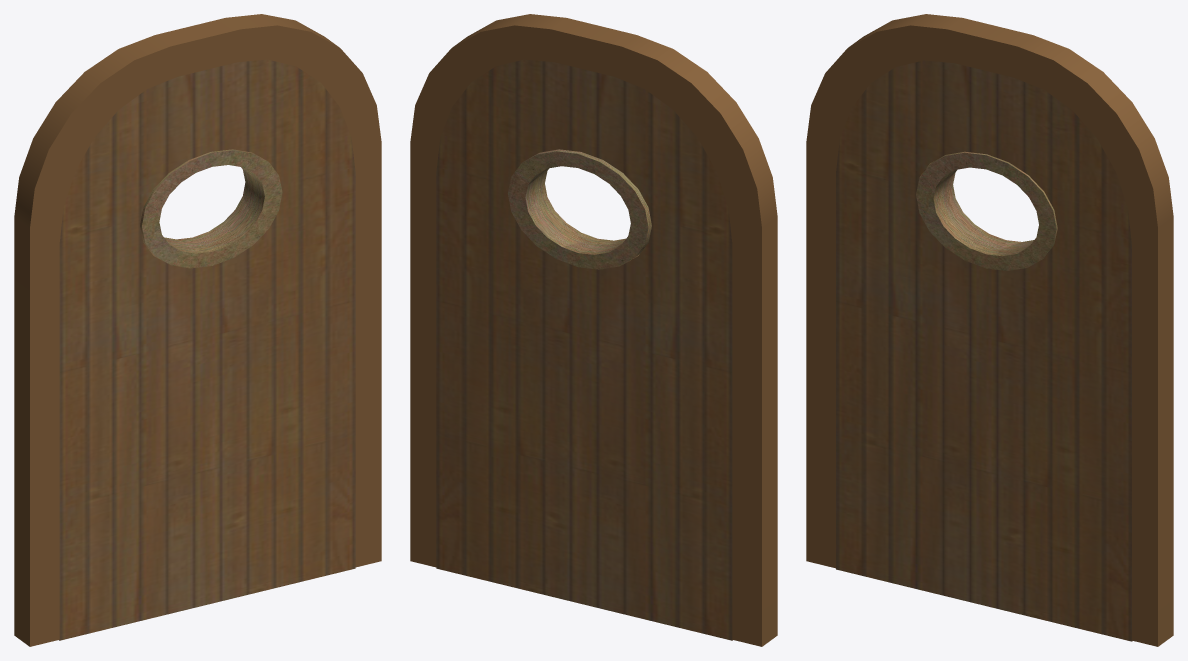
Rendered from puerta.obj.
The picture shows the model from 3 angles, left to right: view 1: azimuth 30°, elevation 25°; view 2: azimuth 150°, elevation 25°; view 3: azimuth 330°, elevation 25°; orthographic projection.
Parts seen in each view (by area): view 1: pCube5, pCube4, polySurface1098polySurface1257; view 2: pCube5, pCube4, polySurface1098polySurface1257; view 3: pCube5, pCube4, polySurface1098polySurface1257.
Part boxes in pixels (<box>): pCube5: <box>59,59,355,640</box>; pCube4: <box>14,14,381,646</box>; polySurface1098polySurface1257: <box>140,149,282,268</box>; pCube5: <box>436,59,732,640</box>; pCube4: <box>410,14,777,646</box>; polySurface1098polySurface1257: <box>508,149,651,269</box>; pCube5: <box>836,60,1132,641</box>; pCube4: <box>806,14,1173,646</box>; polySurface1098polySurface1257: <box>916,151,1057,270</box>.
Bounding box in the file's own units: 1.3 × 2 × 0.1251.
3 materials, 3 textured.
